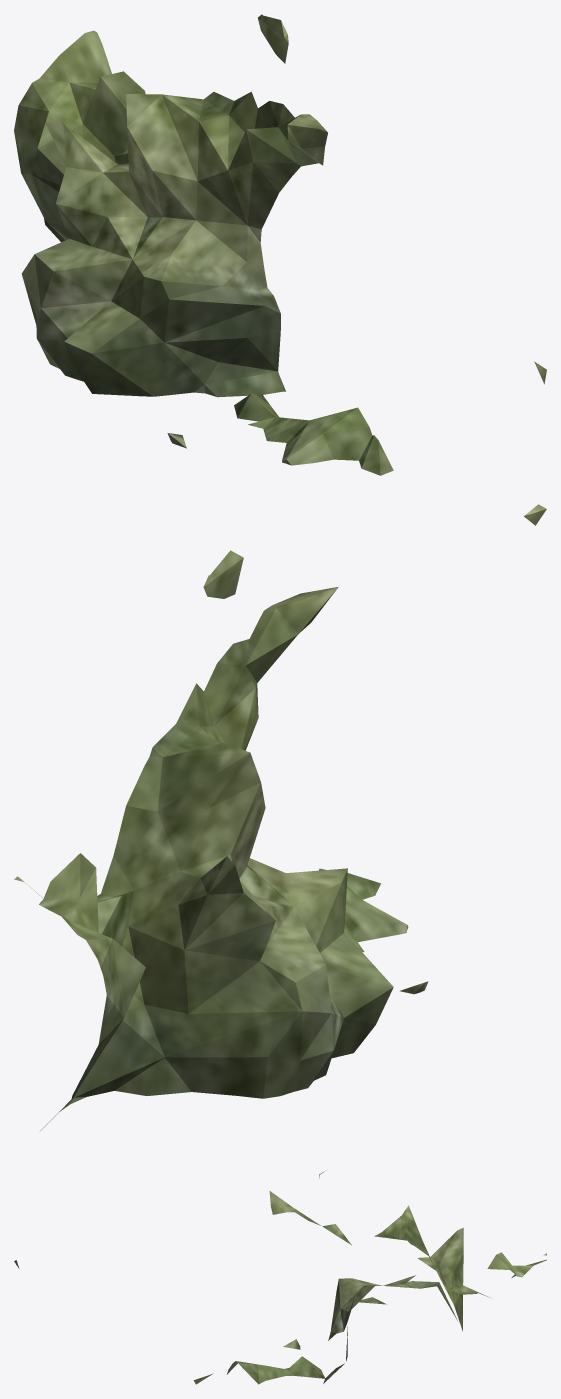
3 renders of one model, top to bottom at view 1: azimuth 30°, elevation 25°; view 2: azimuth 150°, elevation 25°; view 3: azimuth 270°, elevation 25°, orthographic. The views are drawn at different scales.
Bounding box in the file's own units: 1.99 × 3.91 × 8.76.
1 material, 1 textured.
